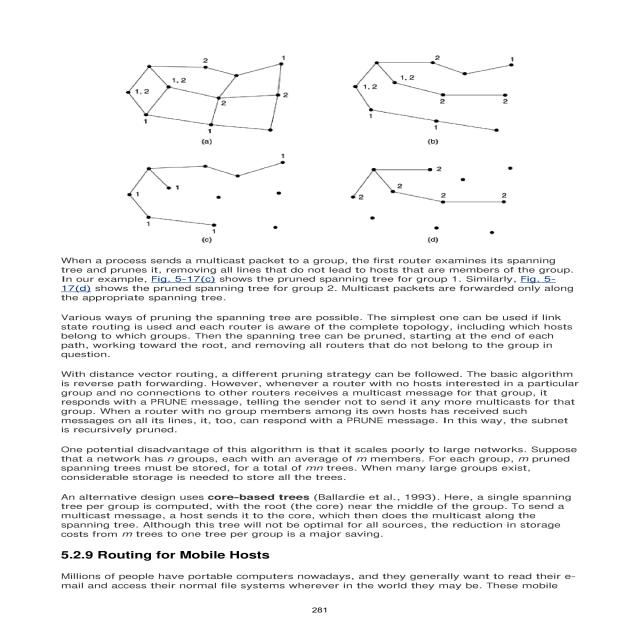diagram: (118, 41, 562, 246)
